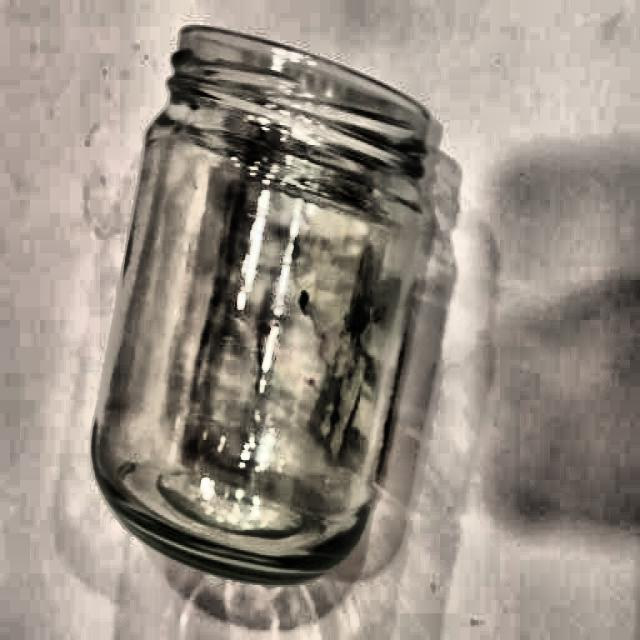glass: (90, 20, 432, 579)
